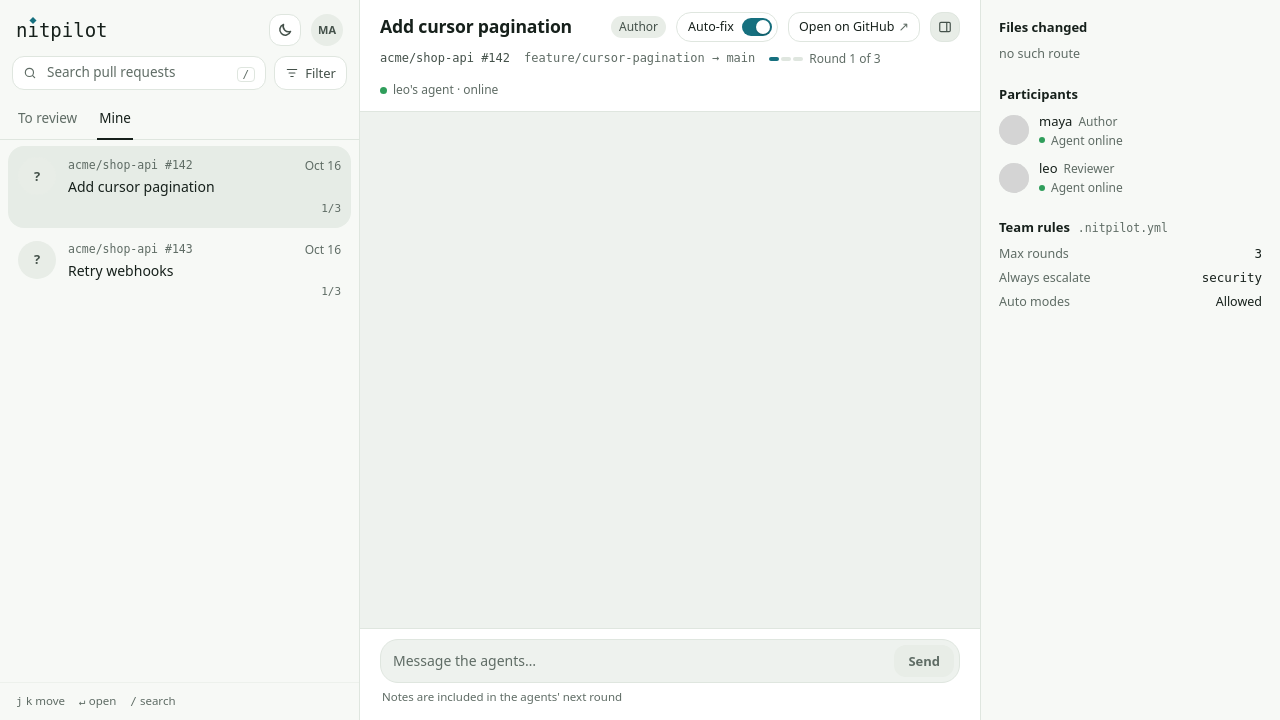
Scenario: Composer (handoff §2 "Composer") › keeps what you wrote when sending fails, and shows the server's words
Type "Too late" into the text box labelled "Message the agents".
click(640, 661); type("Too late")  # box [393,645,886,677]
Then press Enter
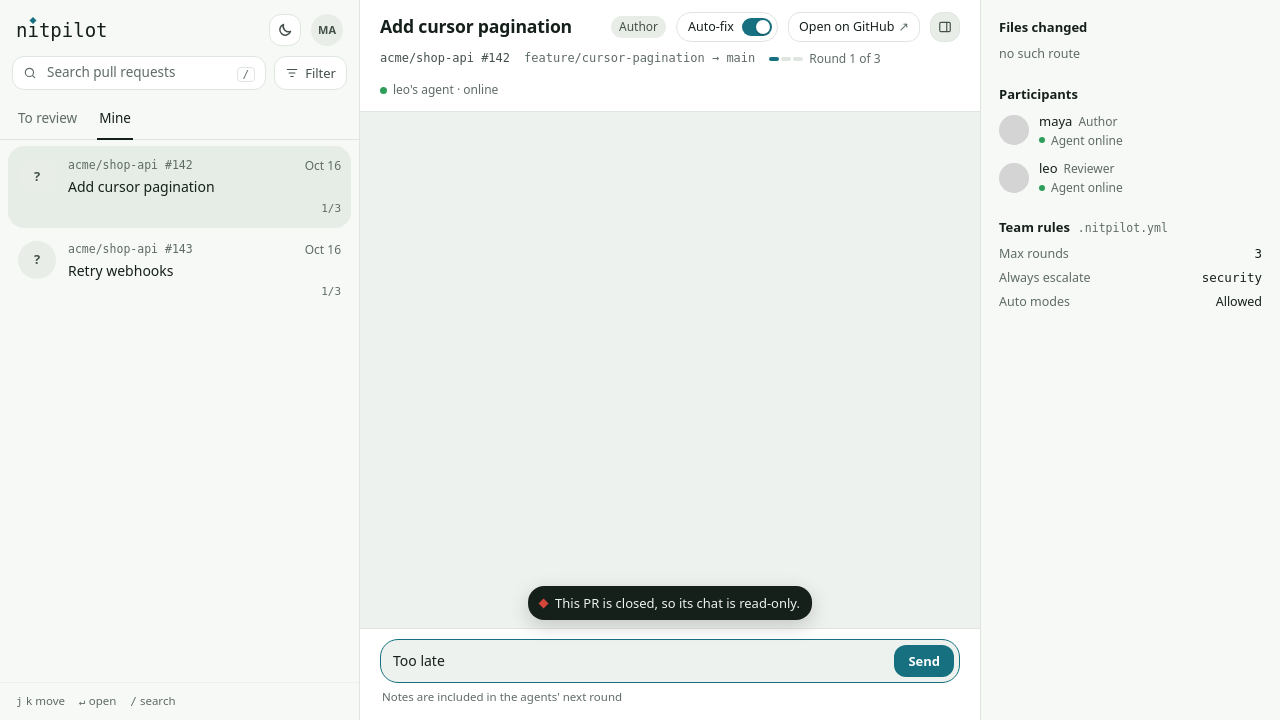
Result: the text "This PR is closed, so its chat is read-only." is shown at [528,586,812,620]
